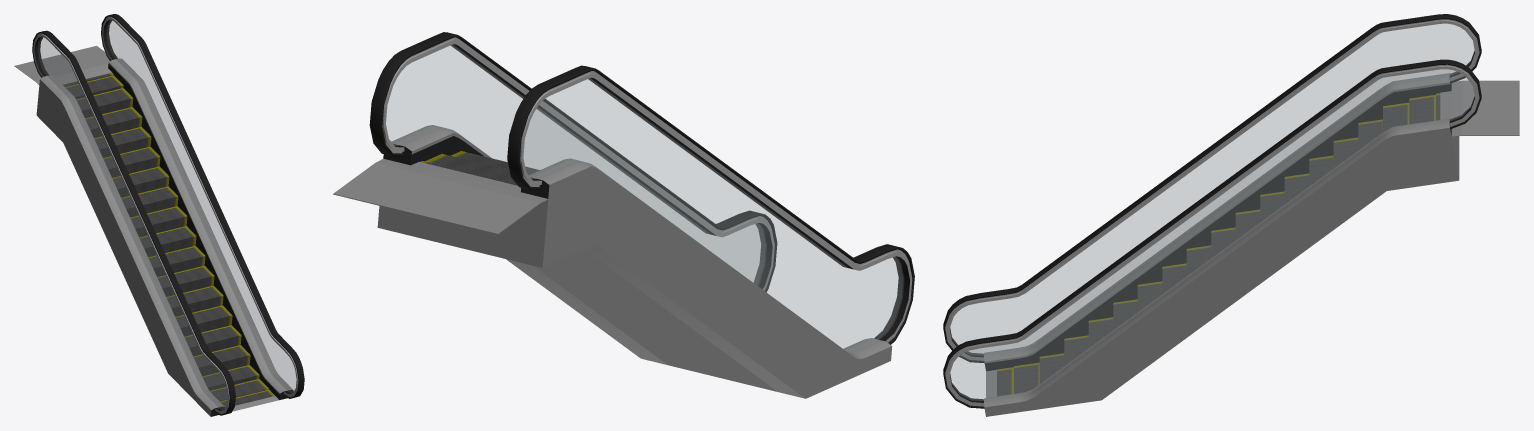
The model's file is stair.fbx.
The picture shows the model from 3 angles, left to right: view 1: azimuth 30°, elevation 25°; view 2: azimuth 150°, elevation 25°; view 3: azimuth 270°, elevation 25°; orthographic projection. The views are drawn at different scales.
Visible parts, largest first — view 1: stair; view 2: stair; view 3: stair.
Boxes of the visible parts, <box> form: stair: <box>14,14,304,416</box>; stair: <box>333,32,914,398</box>; stair: <box>943,14,1519,416</box>.
Size of the model in its own units: 118 by 353 by 525.
Materials: 4 (1 with a texture image).
